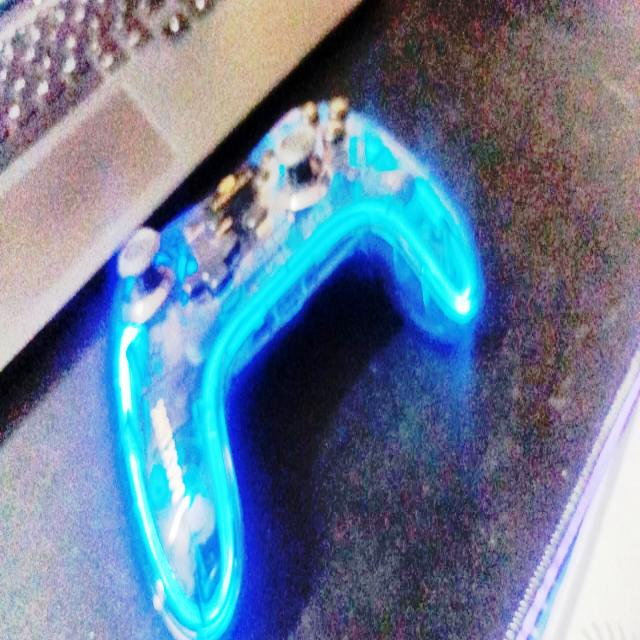gamepad: (101, 82, 513, 637)
